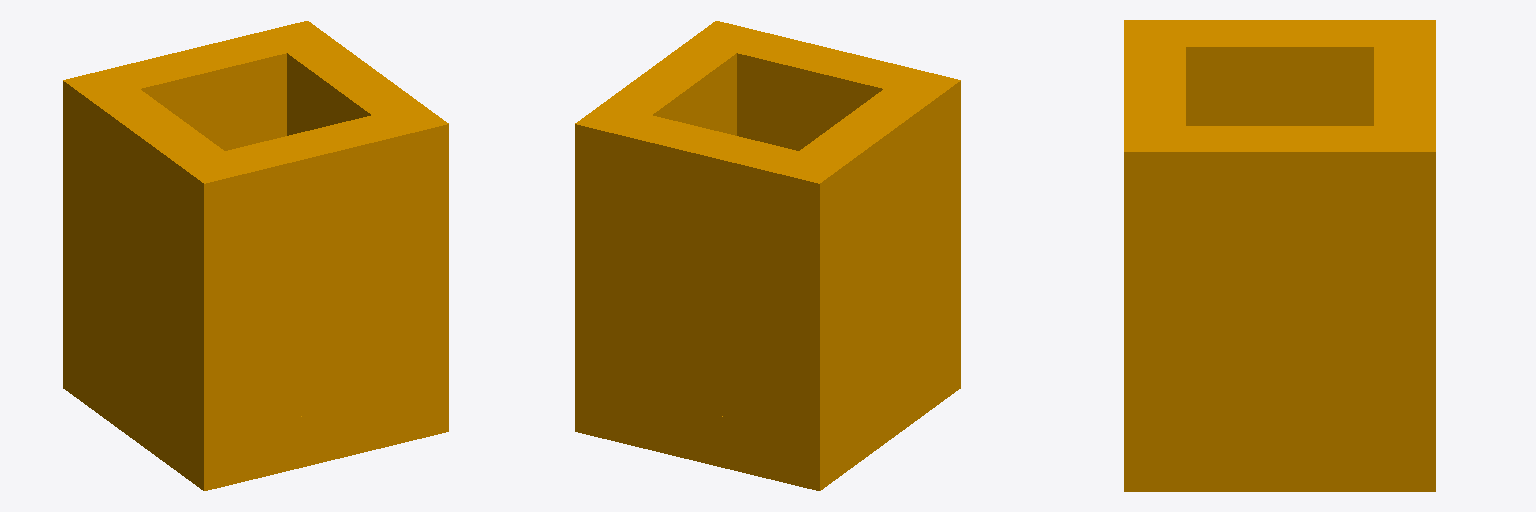
URDF robot description (cup):
<!-- the origin is at the center of cup (ignoring the handle) -->
<robot name="cup">
    <link name="cup_body">
        <!-- Base -->
        <visual>
            <geometry>
                <box size="0.5 0.5 0.1"/>
            </geometry>
            <origin xyz="0 0 -0.25"/>
        </visual>
        <collision>
            <geometry>
                <box size="0.5 0.5 0.1"/>
            </geometry>
            <origin xyz="0 0 -0.25"/>
        </collision>

        <!-- Wall1 -->
        <visual>
            <geometry>
                <box size="0.5 0.1 0.6"/>
            </geometry>
            <origin xyz="0 -0.2 0"/>
        </visual>
        <collision>
            <geometry>
                <box size="0.5 0.1 0.6"/>
            </geometry>
            <origin xyz="0 -0.2 -0"/>
        </collision>

        <!-- Wall2 -->
        <visual>
            <geometry>
                <box size="0.5 0.1 0.6"/>
            </geometry>
            <origin xyz="0 0.2 -0"/>
        </visual>
        <collision>
            <geometry>
                <box size="0.5 0.1 0.6"/>
            </geometry>
            <origin xyz="0 0.2 -0"/>
        </collision>

        <!-- Wall3 -->
        <visual>
            <geometry>
                <box size="0.1 0.5 0.6"/>
            </geometry>
            <origin xyz="-0.2 0 -0"/>
        </visual>
        <collision>
            <geometry>
                <box size="0.1 0.5 0.6"/>
            </geometry>
            <origin xyz="-0.2 0 -0"/>
        </collision>

        <!-- Wall4 -->
        <visual>
            <geometry>
                <box size="0.1 0.5 0.6"/>
            </geometry>
            <origin xyz="0.2 0 -0"/>
        </visual>
        <collision>
            <geometry>
                <box size="0.1 0.5 0.6"/>
            </geometry>
            <origin xyz="0.2 0 -0"/>
        </collision>

        <!-- Deleting the Handle -->
        <!-- <visual>
            <geometry>
                <box size="0.3 0.1 0.3"/>
            </geometry>
            <origin xyz="0.4 0 0"/>
        </visual>
        <collision>
            <geometry>
                <box size="0.3 0.1 0.3"/>
            </geometry>
            <origin xyz="0.4 0 0"/>
        </collision> -->
    </link>
</robot>

--- Render facts (derived) ---
The picture shows the robot from 3 angles, left to right: view 1: azimuth 30°, elevation 25°; view 2: azimuth 150°, elevation 25°; view 3: azimuth 270°, elevation 25°; orthographic projection.
Model cup with 1 links and 0 joints (none), rooted at cup_body, posed all joints at 0.
Links seen in each view (by area): view 1: cup_body; view 2: cup_body; view 3: cup_body.
Link boxes in pixels (left/top/right/bottom): cup_body: left=63, top=21, right=448, bottom=490; cup_body: left=575, top=21, right=960, bottom=490; cup_body: left=1124, top=20, right=1435, bottom=491.
Size in the robot's own frame: 0.5 by 0.5 by 0.6 metres.
Geometry: primitives only (box / cylinder / sphere), no mesh files.